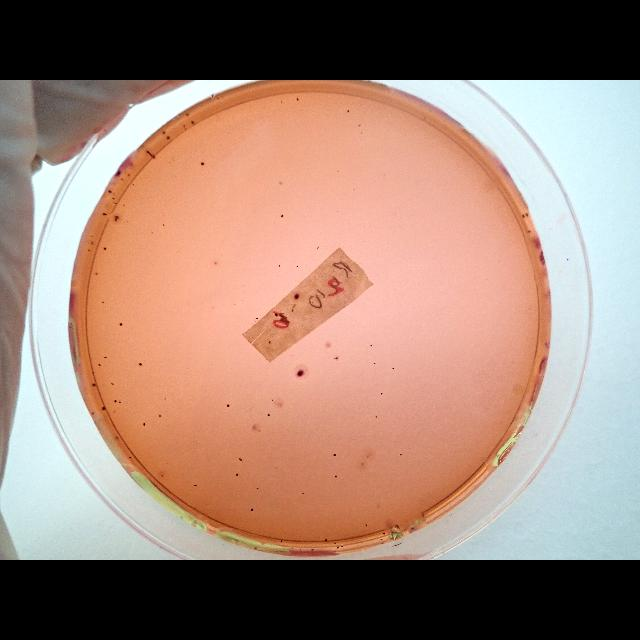colony: (295, 366, 305, 380), (225, 402, 232, 410), (332, 355, 340, 361), (274, 310, 278, 320), (234, 471, 240, 477), (102, 246, 108, 252), (115, 170, 121, 176), (255, 314, 259, 322), (158, 412, 162, 420), (114, 214, 118, 222), (102, 404, 106, 412), (268, 340, 272, 346), (266, 413, 272, 417), (238, 457, 242, 463), (250, 506, 254, 512), (333, 452, 337, 458), (194, 482, 198, 488), (138, 362, 142, 368), (92, 382, 96, 388), (280, 214, 284, 220), (201, 161, 205, 167), (186, 112, 190, 118), (346, 108, 350, 114), (364, 522, 368, 528), (113, 398, 117, 404), (128, 455, 132, 461), (92, 410, 95, 416), (270, 398, 274, 402), (255, 487, 259, 491), (334, 474, 338, 478), (142, 422, 146, 426), (119, 322, 123, 326), (103, 355, 107, 359), (98, 363, 102, 367), (110, 382, 114, 386), (101, 300, 105, 304), (102, 213, 106, 217), (191, 120, 195, 124), (162, 131, 166, 135), (296, 97, 300, 101), (357, 124, 361, 128), (527, 230, 531, 234), (375, 415, 379, 419), (382, 532, 386, 536), (324, 538, 328, 542), (333, 541, 337, 545), (310, 548, 314, 552), (280, 539, 284, 543), (254, 546, 258, 550), (118, 401, 122, 405), (108, 190, 112, 194), (280, 100, 284, 104), (316, 246, 320, 250), (95, 271, 98, 275), (167, 136, 170, 140), (526, 212, 528, 218), (336, 546, 339, 550), (341, 544, 344, 548), (111, 197, 115, 200), (392, 366, 394, 372), (381, 392, 384, 396), (162, 223, 164, 227), (278, 264, 280, 268), (212, 94, 214, 98), (522, 214, 524, 218), (399, 452, 401, 456), (361, 462, 363, 466), (367, 455, 369, 459), (302, 492, 304, 496), (379, 538, 383, 540), (370, 344, 372, 348), (373, 362, 377, 364), (114, 202, 116, 205), (361, 132, 364, 134), (296, 266, 298, 268), (164, 398, 166, 400)
